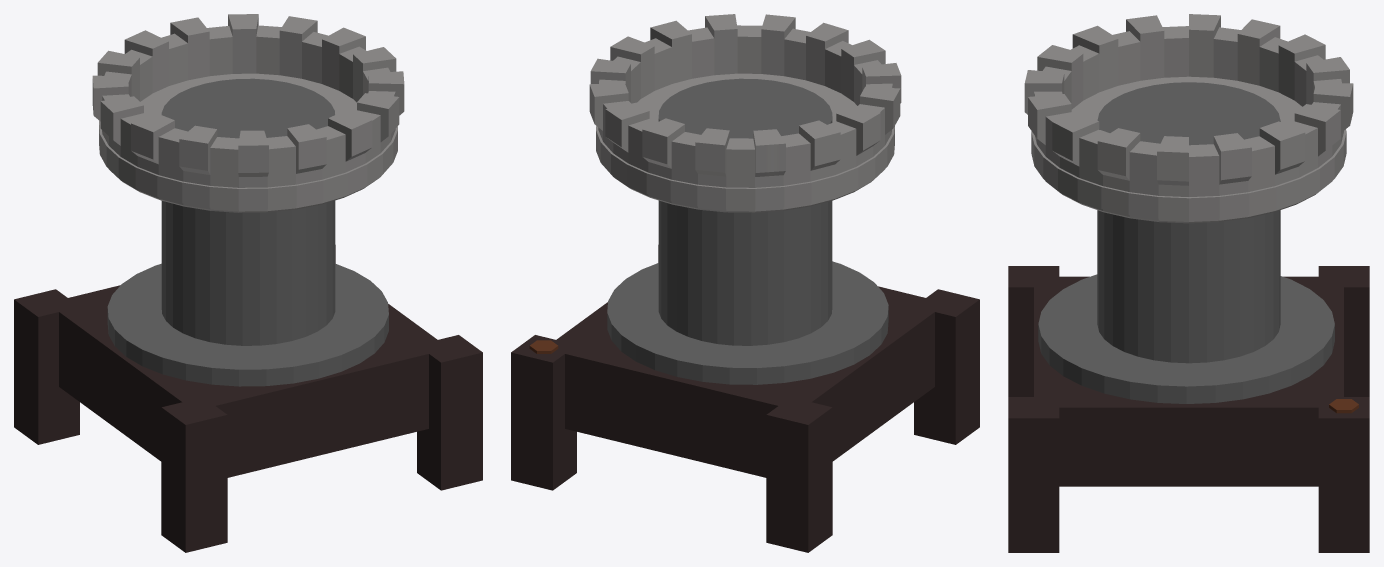
File: uzel.glb
3 renders of one model, left to right at view 1: azimuth 30°, elevation 25°; view 2: azimuth 150°, elevation 25°; view 3: azimuth 270°, elevation 25°, orthographic. The views are drawn at different scales.
Visible parts, largest first — view 1: Куб.001, Цилиндр, Цилиндр.001; view 2: Куб.001, Цилиндр, Цилиндр.001; view 3: Куб.001, Цилиндр, Цилиндр.001.
Boxes of the visible parts, <box> form: Куб.001: <box>14,245,482,552</box>; Цилиндр: <box>107,78,388,386</box>; Цилиндр.001: <box>92,14,404,212</box>; Куб.001: <box>511,245,979,552</box>; Цилиндр: <box>607,78,888,384</box>; Цилиндр.001: <box>589,14,901,212</box>; Куб.001: <box>1008,266,1369,552</box>; Цилиндр: <box>1038,82,1334,403</box>; Цилиндр.001: <box>1024,14,1353,223</box>.
Bounding box in the file's own units: 2.33 × 2.8 × 2.33.
Materials: 4 (1 with a texture image).
